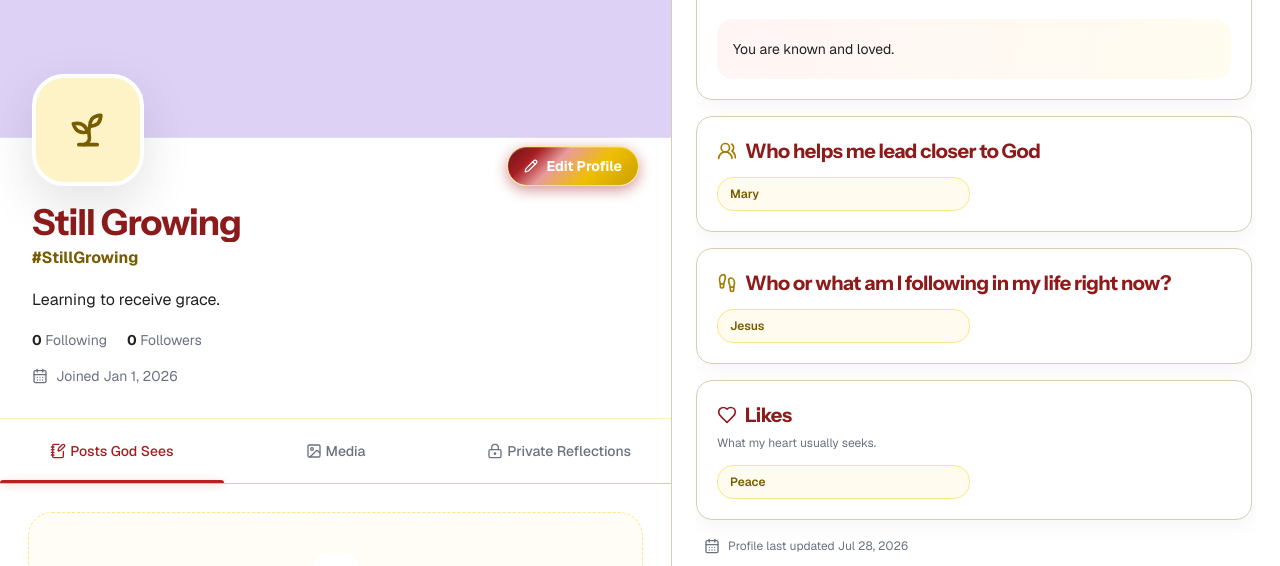
Test: ProfileDashboard private content › never renders a leaked Hidden Story in the normal view and loads private content only after confirmation
Expected: the heading "Still Growing" is shown, [32,202,241,242]
Expected: the text "PRIVATE-SENTINEL-AFTER-CONFIRMATION" is not shown
What coordinates should you click on to do the following:
click the tab "Private Reflections"
I would click on:
 (559, 451)
Its box is [447,419,671,483].
(page scrolled)
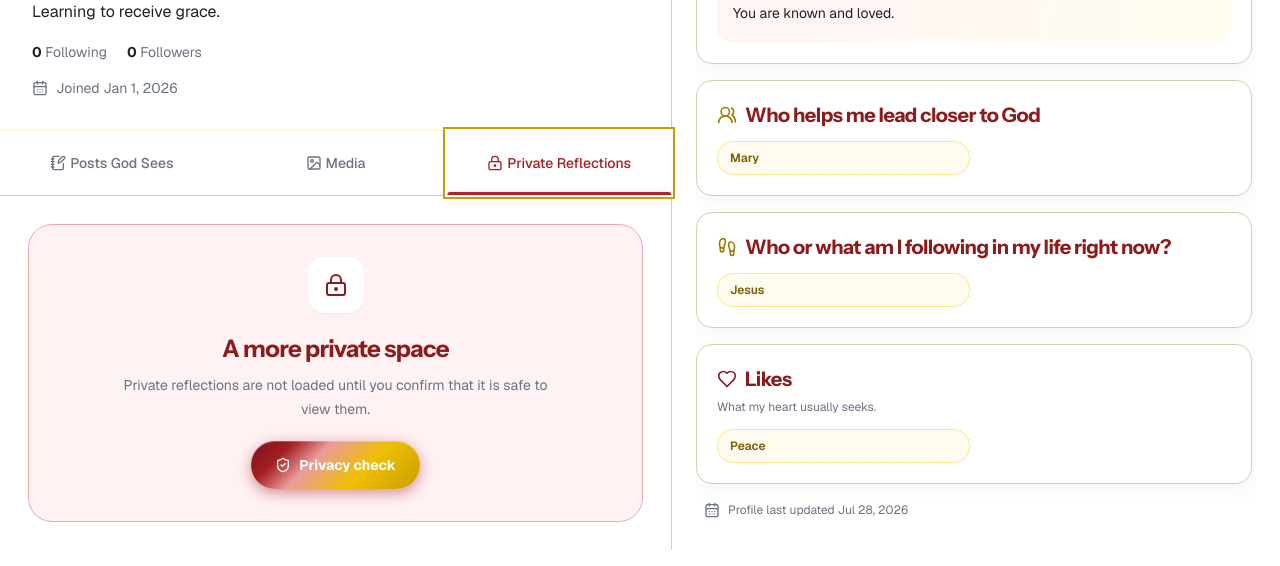
Expected: the text "PRIVATE-SENTINEL-AFTER-CONFIRMATION" is not shown
Expected: the text "PRIVATE-JOURNAL-SENTINEL-AFTER-CONFIRMATION" is not shown
What coordinates should you click on to do the following:
click the button "Privacy check"
I would click on:
 (336, 465)
Its box is [251,441,420,489].
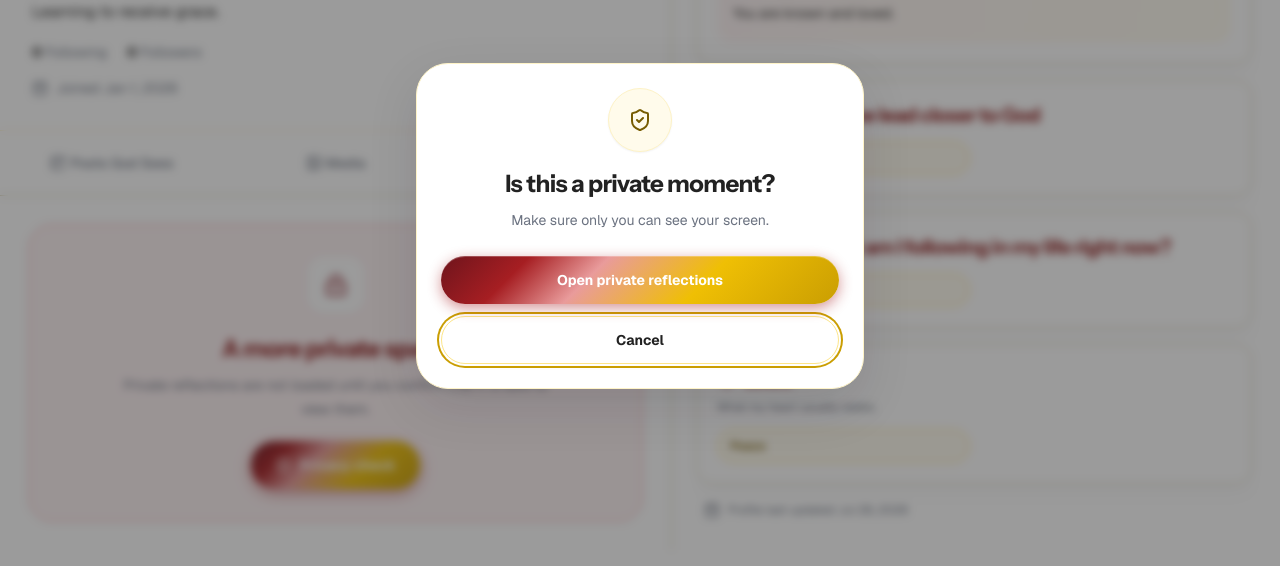
Expected: the text "PRIVATE-SENTINEL-AFTER-CONFIRMATION" is not shown
Result: the dialog "Is this a private moment?" is shown at [416,63,864,389]
What coordinates should you click on to do the following:
click the button "Open private reflections"
I would click on:
 (640, 280)
Its box is [441,256,839,304].
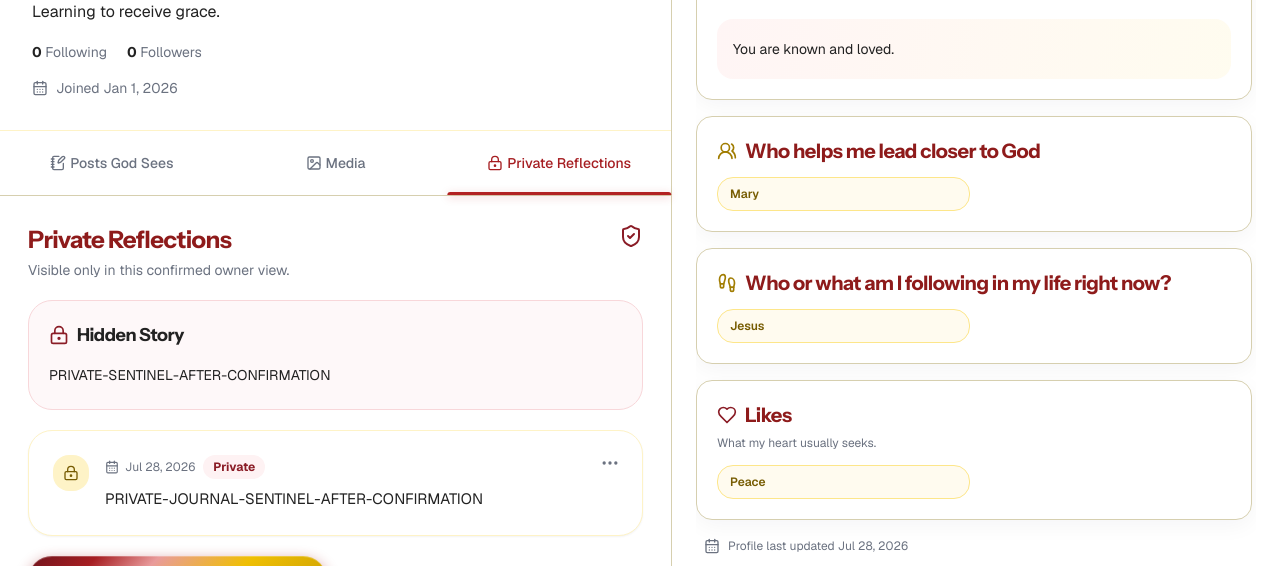
Result: the text "PRIVATE-SENTINEL-AFTER-CONFIRMATION" is shown at [49,366,330,384]
Result: the text "PRIVATE-JOURNAL-SENTINEL-AFTER-CONFIRMATION" is shown at [105,489,483,508]
